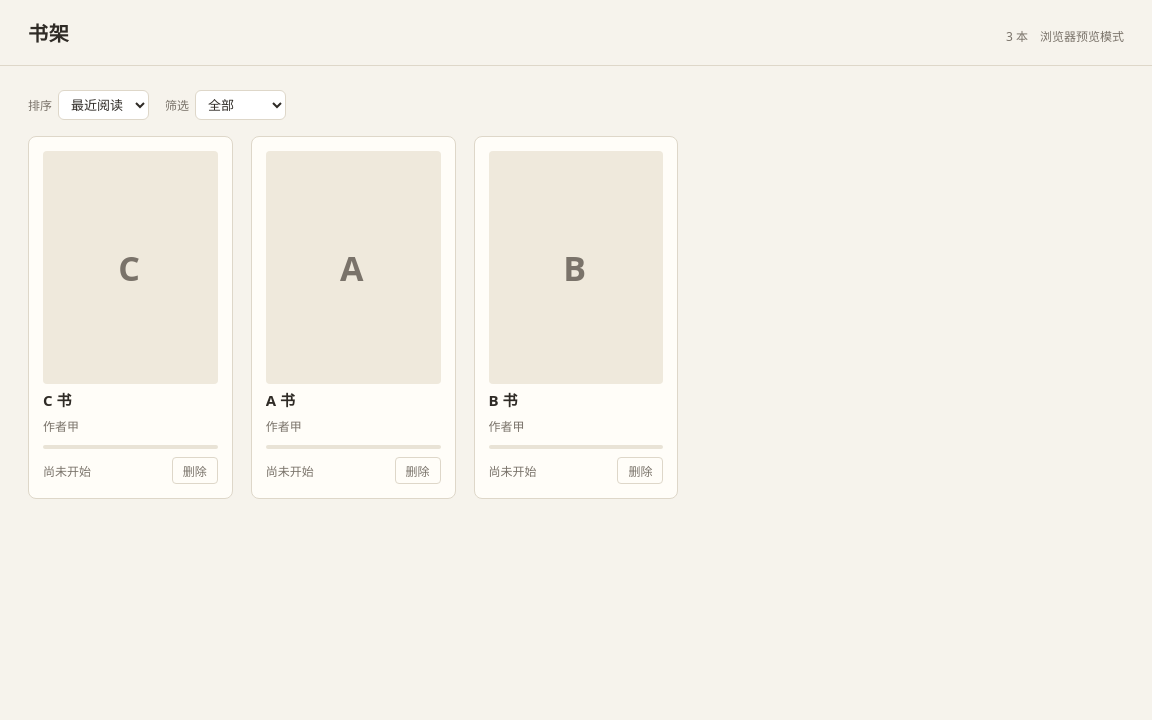
Test: Bookshelf › 切到按书名排序后顺序变化
The width and height of the screenshot is (1152, 720).
Check: the heading "C 书" is shown, box [43, 390, 72, 411]
Select "书名" in the dropdown labelled "排序" at (104, 105), box [58, 90, 149, 120]
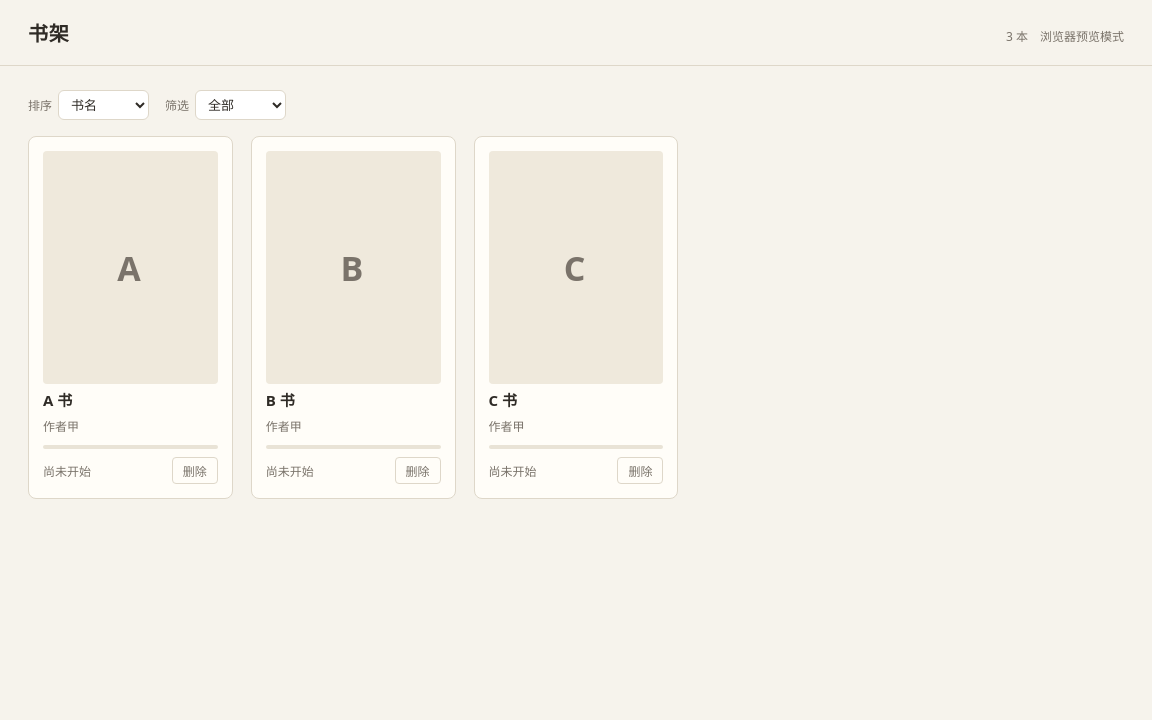
Check: the headings read "A 书", "B 书", "C 书", in this order, box [43, 390, 72, 411]; [266, 390, 295, 411]; [489, 390, 517, 411]
